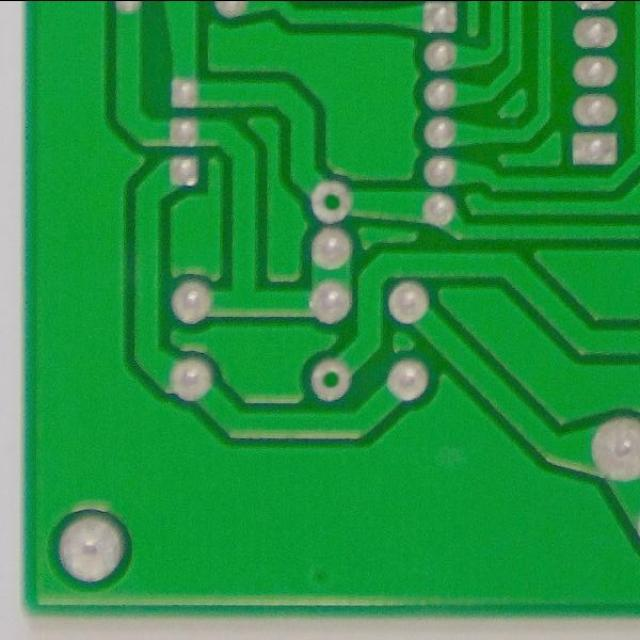Missing_Hole: (303, 352, 360, 405), (302, 175, 359, 228)
